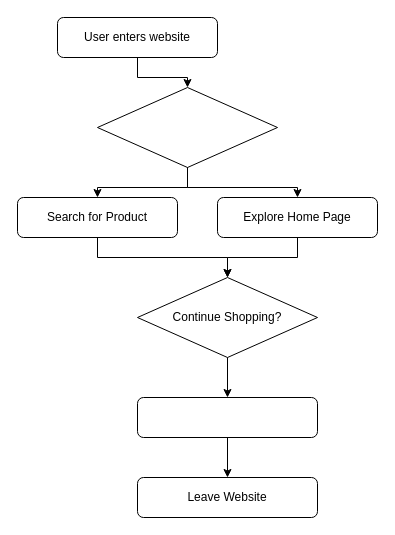
Image size: 395x535. Some labels were removed from this diagram. Here are the shapes that lost their labels. From the top down, the box of each, then its label:
(96, 86, 278, 168): Search or Explore Products
(136, 396, 318, 438): Checkout
